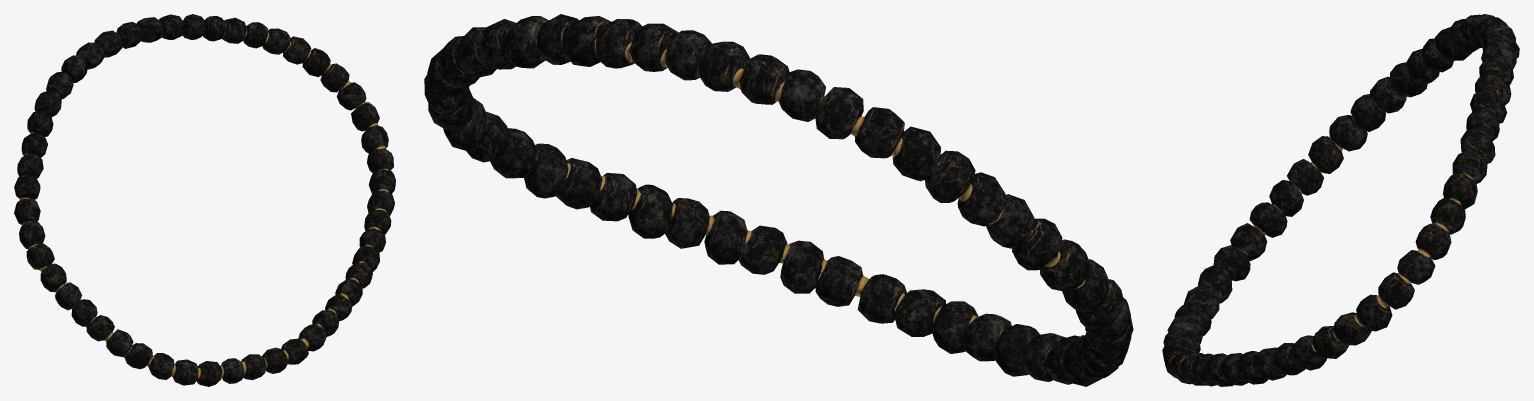
Rendered from SM_BrazaleteCodo.glb.
The picture shows the model from 3 angles, left to right: view 1: azimuth 30°, elevation 25°; view 2: azimuth 150°, elevation 25°; view 3: azimuth 270°, elevation 25°; orthographic projection. The views are drawn at different scales.
Visible parts, largest first — view 1: Brazalete_Low; view 2: Brazalete_Low; view 3: Brazalete_Low.
Boxes of the visible parts, <box> form: Brazalete_Low: <box>14,14,395,386</box>; Brazalete_Low: <box>424,14,1133,386</box>; Brazalete_Low: <box>1162,14,1519,386</box>.
Size of the model in its own units: 0.1347 by 0.0921 by 0.0905.
1 material, 1 textured.
